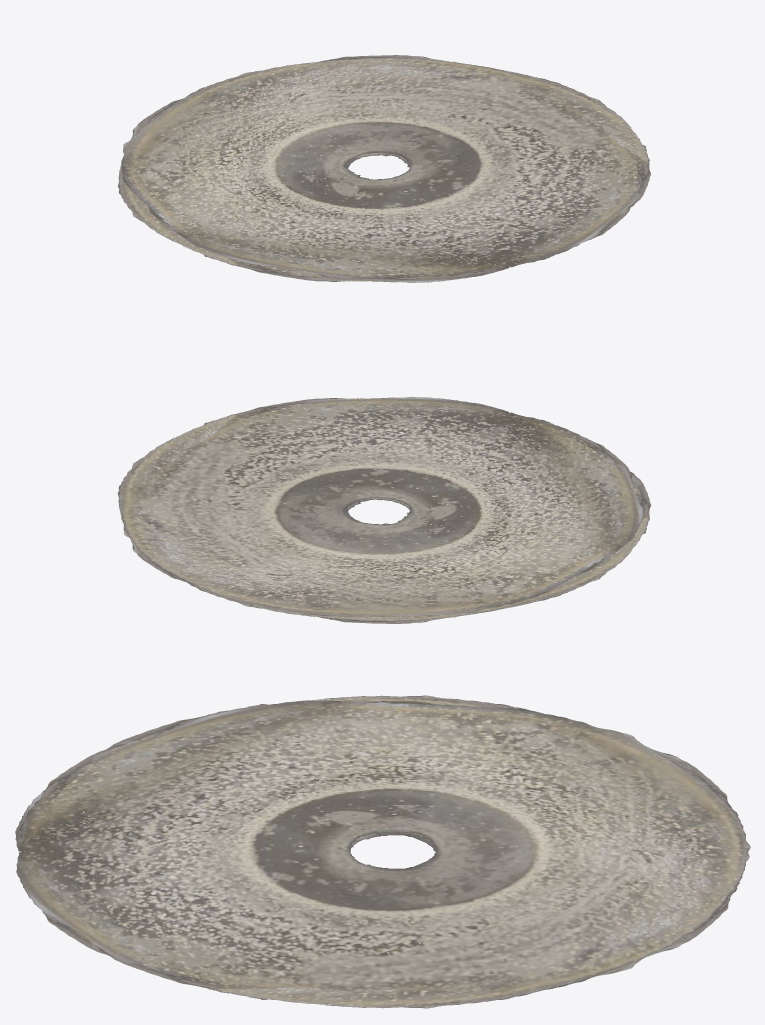
The model's file is PlenkaOtdelno.fbx.
3 views of the same model, one above another, from view 1: azimuth 30°, elevation 25°; view 2: azimuth 150°, elevation 25°; view 3: azimuth 270°, elevation 25° (orthographic). The views are drawn at different scales.
Visible parts, largest first — view 1: Plane; view 2: Plane; view 3: Plane.
Boxes of the visible parts, bbox=[...] form: Plane: bbox=[118, 55, 650, 282]; Plane: bbox=[118, 396, 651, 623]; Plane: bbox=[15, 695, 750, 1008].
Bounding box in the file's own units: 4.8 × 0.0243 × 4.66.
1 material, 1 textured.
